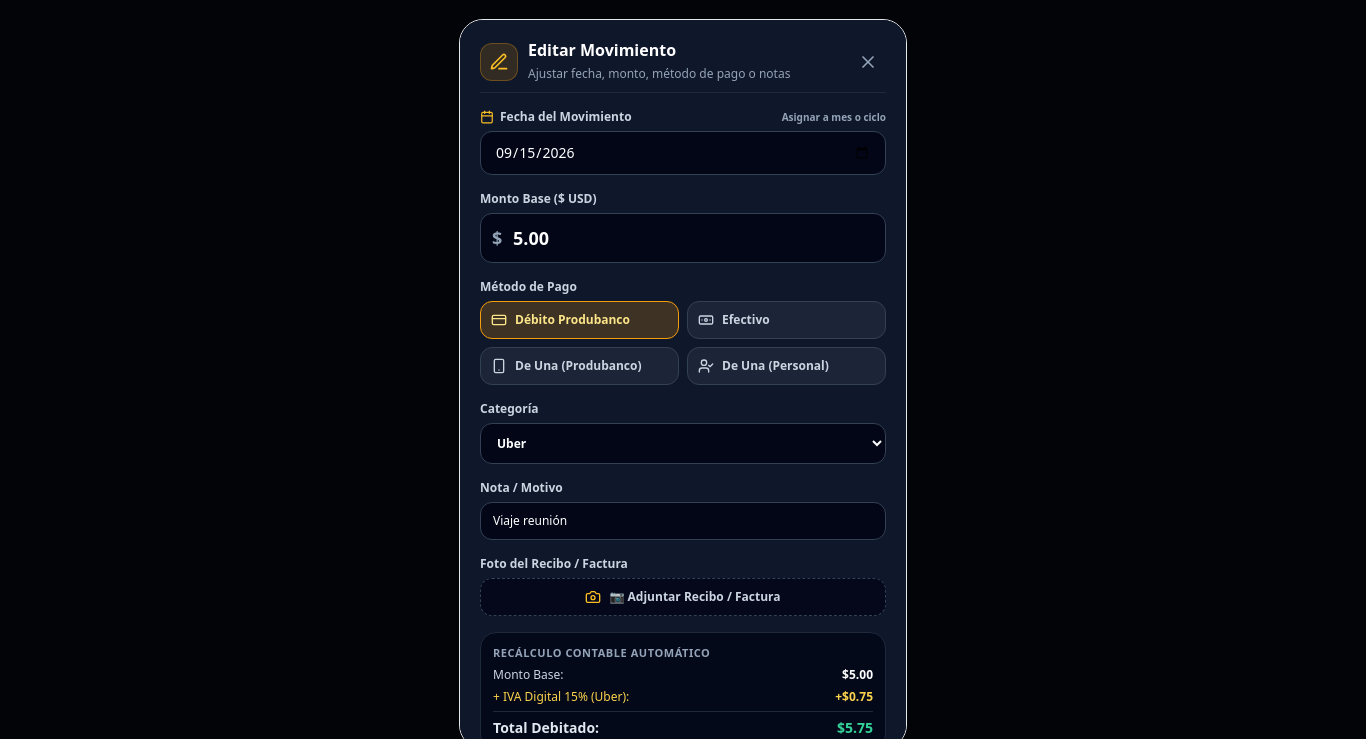
EditTransactionModal › prevents saving when base amount is 0 or empty and displays error
The width and height of the screenshot is (1366, 739).
Replace the text in the number field labelled "Monto Base" with "0" at x=683, y=238, box [480,213,886,263]
(page scrolled)
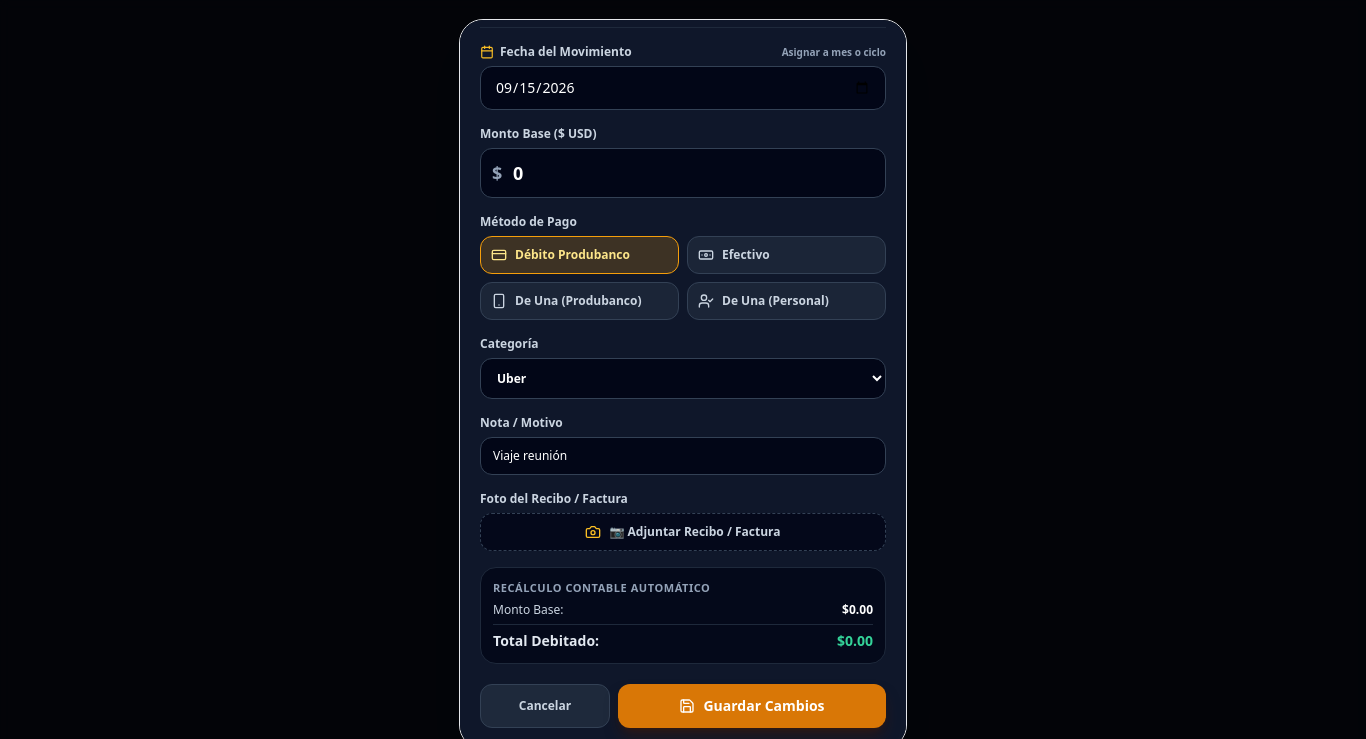
Click the button "Guardar Cambios" at x=752, y=706, box [618,684,886,728]
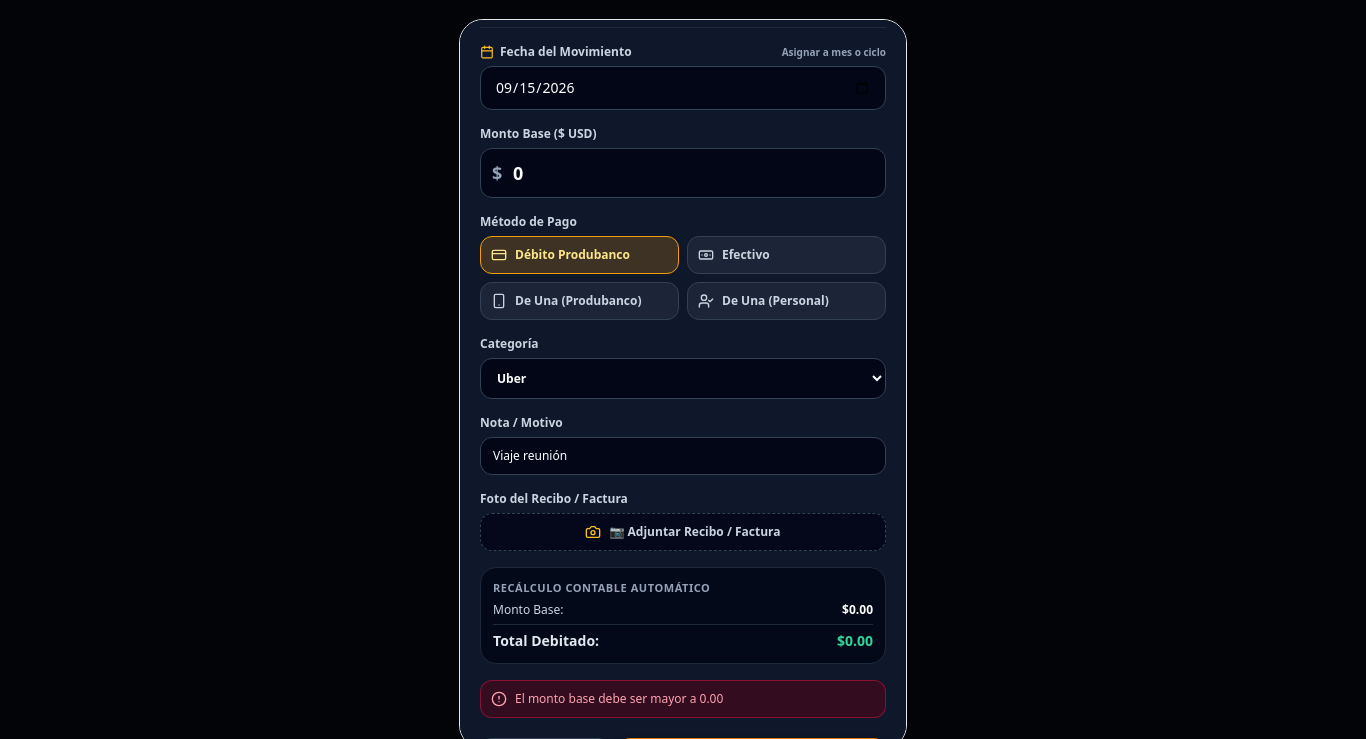
Result: the text "El monto base debe ser mayor a 0.00" is shown at [515,691,723,707]
